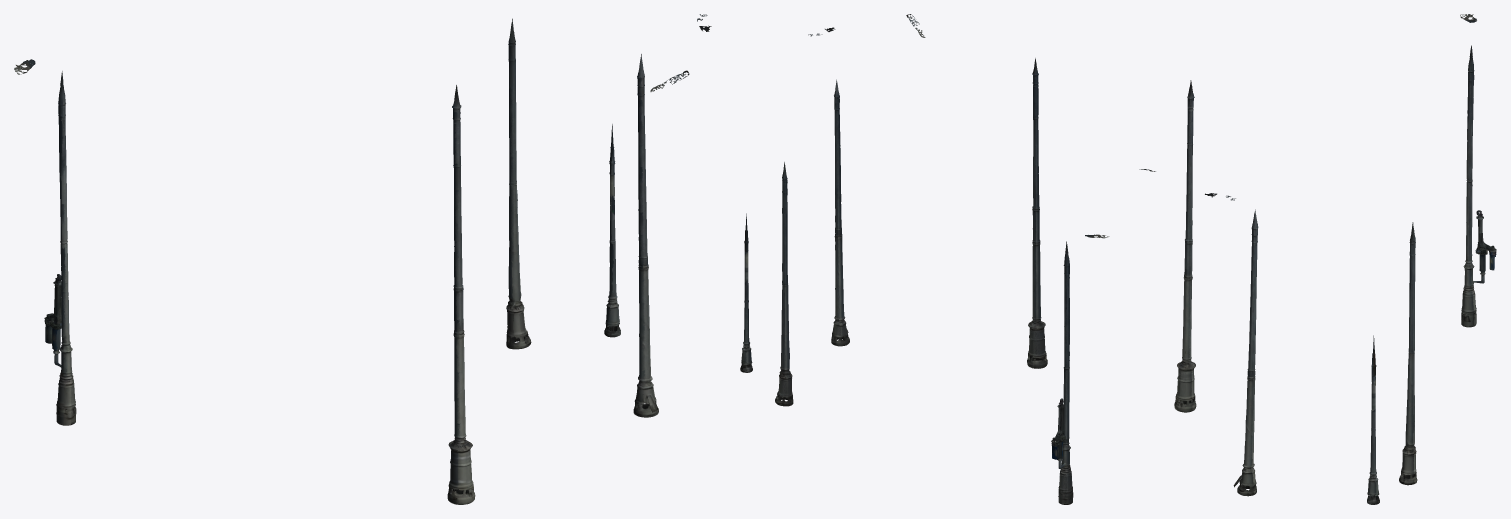
File: construction-05.glb
3 renders of one model, left to right at view 1: azimuth 30°, elevation 25°; view 2: azimuth 150°, elevation 25°; view 3: azimuth 270°, elevation 25°, orthographic. The views are drawn at different scales.
Size of the model in its own units: 1.31 by 0.9466 by 0.9366.
1 material, 1 textured.
